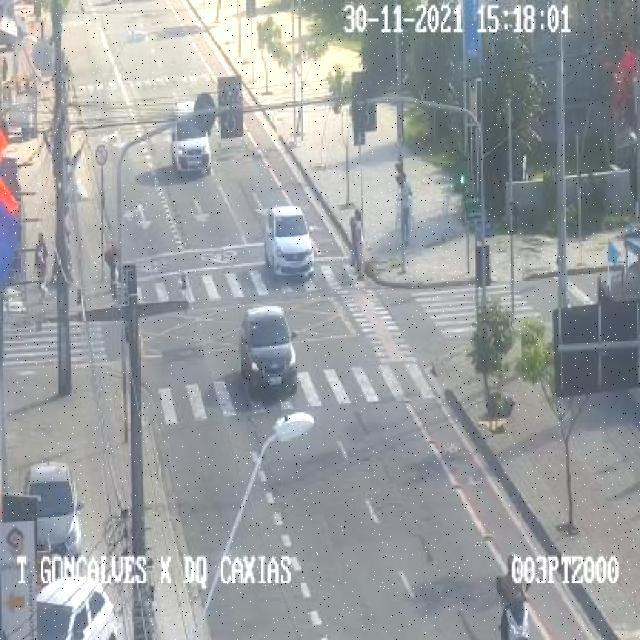Car: (22, 462, 83, 558), (238, 304, 299, 398), (38, 573, 118, 640), (262, 205, 315, 278), (170, 99, 212, 173)
Cycle: (496, 579, 534, 638)
